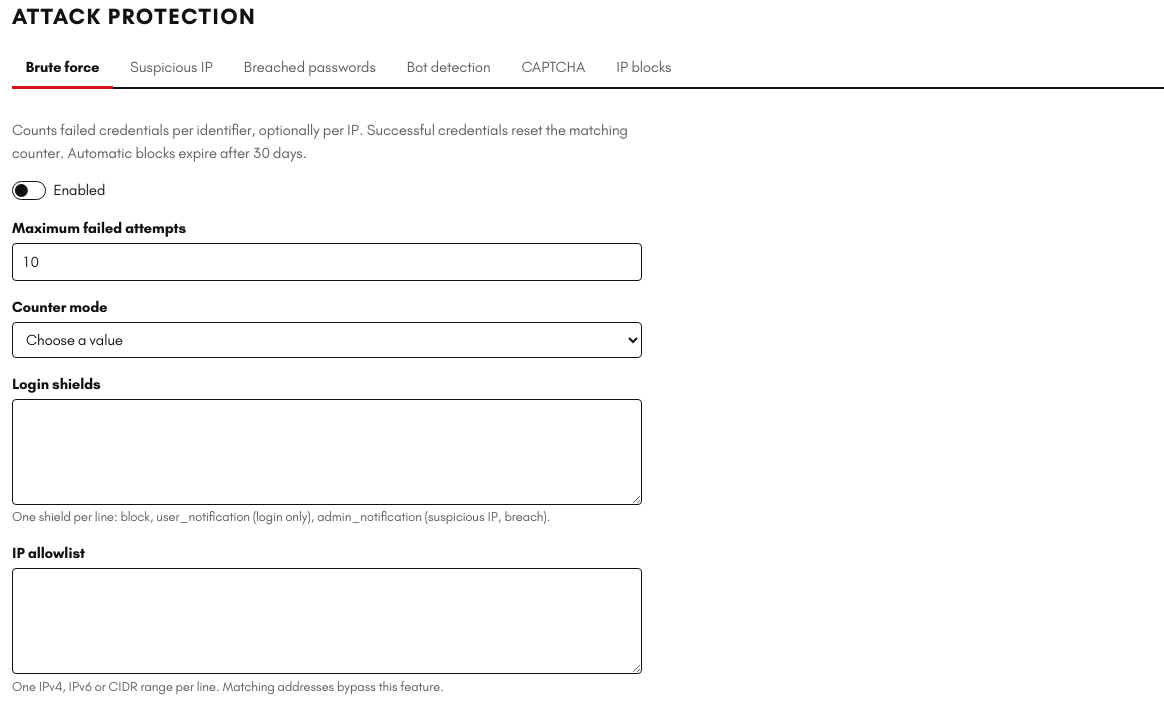
Test: live tenant policy forms › patches only the selected protection feature and shows backend limitations
Replace the text in the number field with id "max_attempts" with "5" at (327, 262), box [12,243,642,281]
(page scrolled)
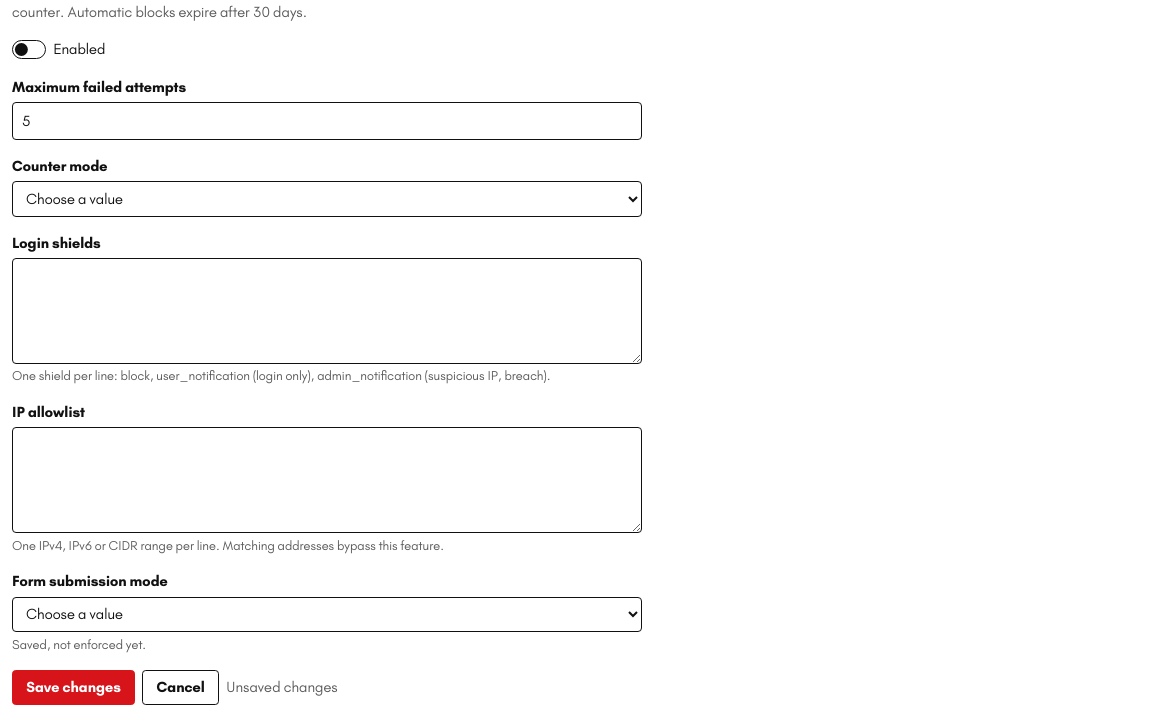
Submit the form, box [12,38,642,705]
(page scrolled)
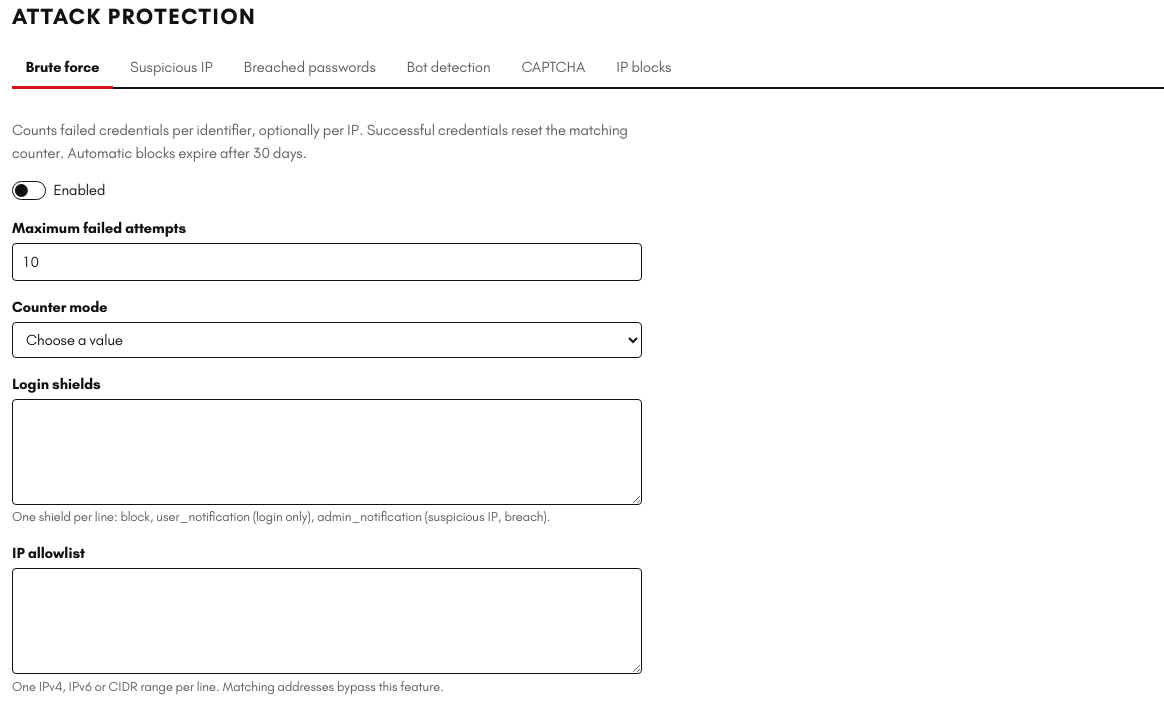
Expected: the text "notification" is shown, [12,509,551,524]
Press the mouse on the tab "Breached passwords" at (310, 69), box [230,49,389,89]
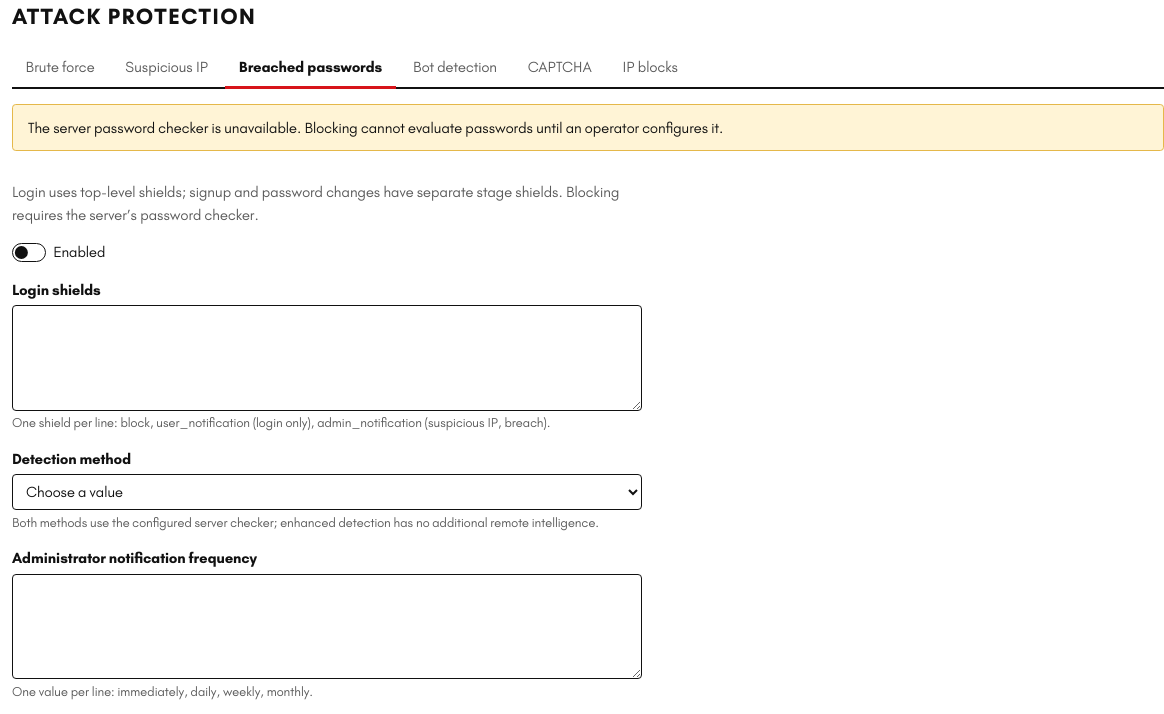
Expected: the text "unavailable" is shown, [28,118,723,136]
